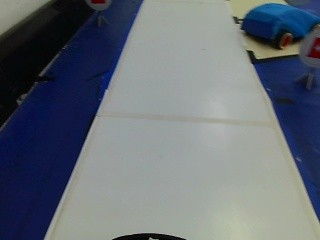car: (230, 1, 320, 50)
